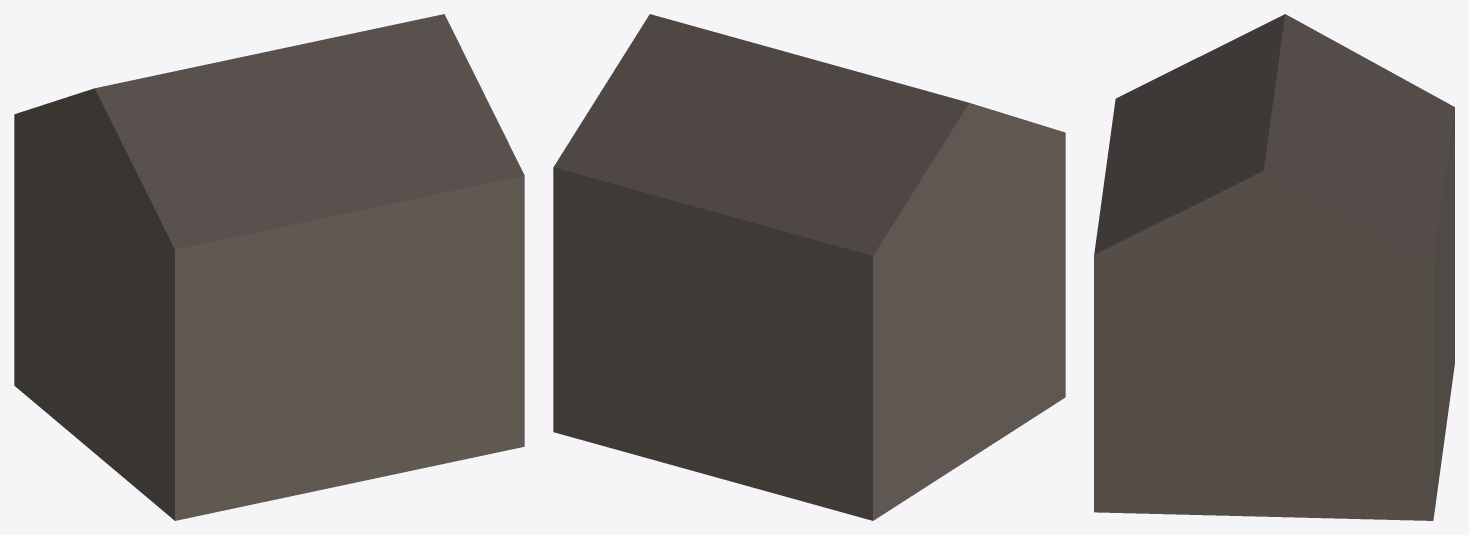
3 renders of one model, left to right at view 1: azimuth 30°, elevation 25°; view 2: azimuth 150°, elevation 25°; view 3: azimuth 270°, elevation 25°, orthographic. The views are drawn at different scales.
Visible parts, largest first — view 1: HP-w1424106414; view 2: HP-w1424106414; view 3: HP-w1424106414.
Part boxes in pixels (bbox=[...]): HP-w1424106414: bbox=[14, 14, 524, 520]; HP-w1424106414: bbox=[553, 14, 1065, 520]; HP-w1424106414: bbox=[1094, 14, 1454, 520].
Bounding box in the file's own units: 8.26 × 8.07 × 7.63.
